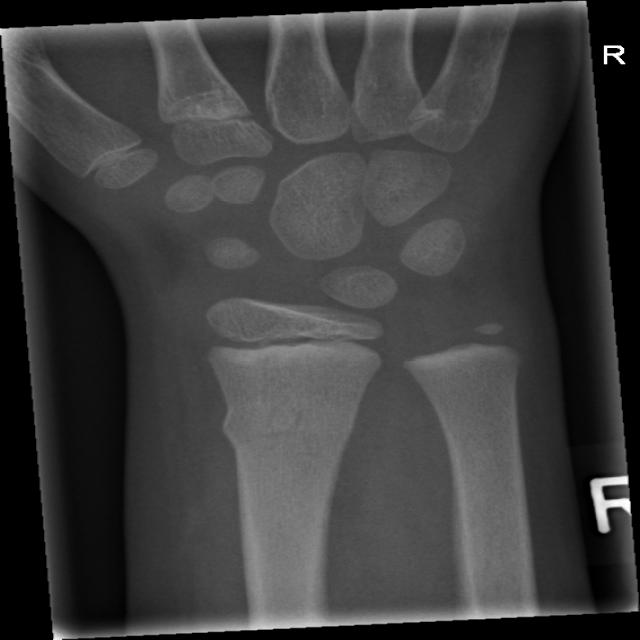radius fracture: (204, 371, 382, 559)
